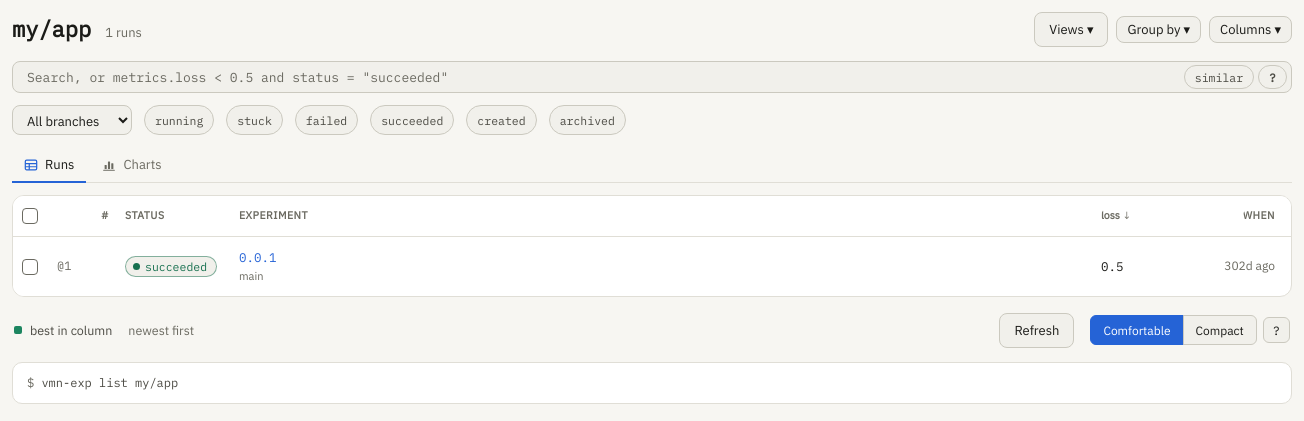
Test: Leaderboard similar mode › shows the server's complaint about the text
Expected: the link "0.0.1" is shown, x1=239 y1=248 x2=276 y2=267
Click the button "similar". click: (1219, 77)
box: x1=1184 y1=65 x2=1254 y2=89
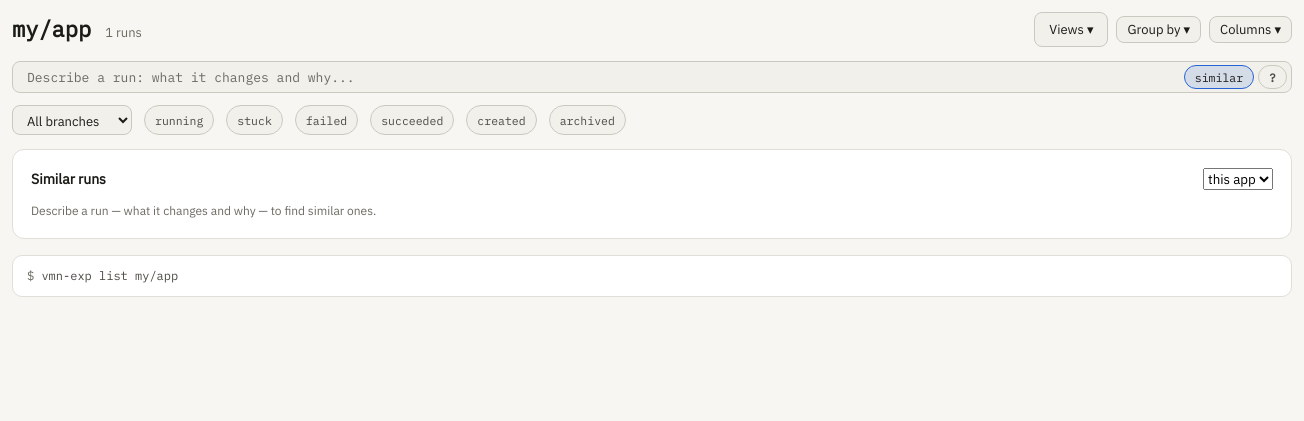
Type "x" into the field named "Filter query". click: (600, 77)
box: x1=21 y1=65 x2=1180 y2=89
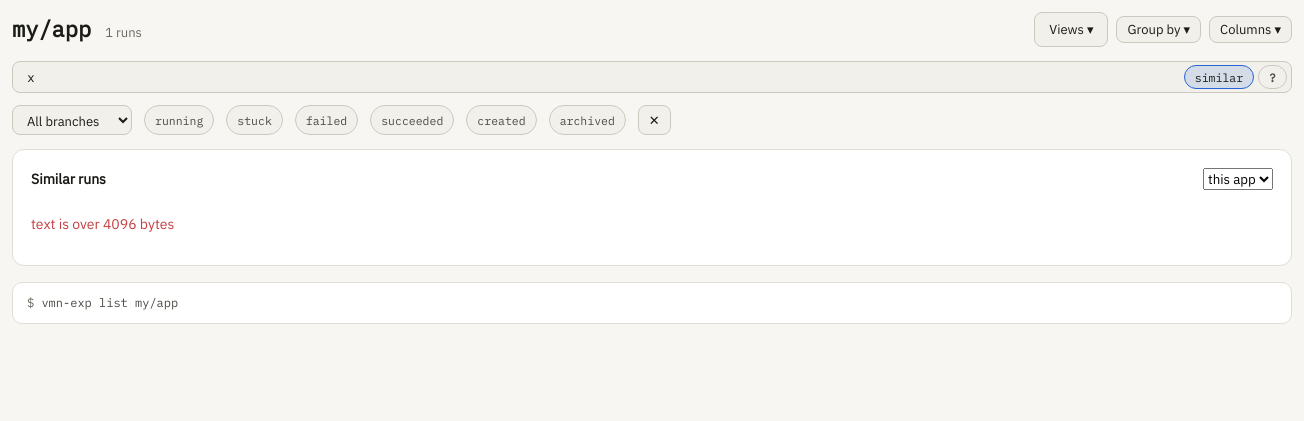
Expected: the text "text is over 4096 bytes" is shown, x1=31 y1=215 x2=174 y2=233
